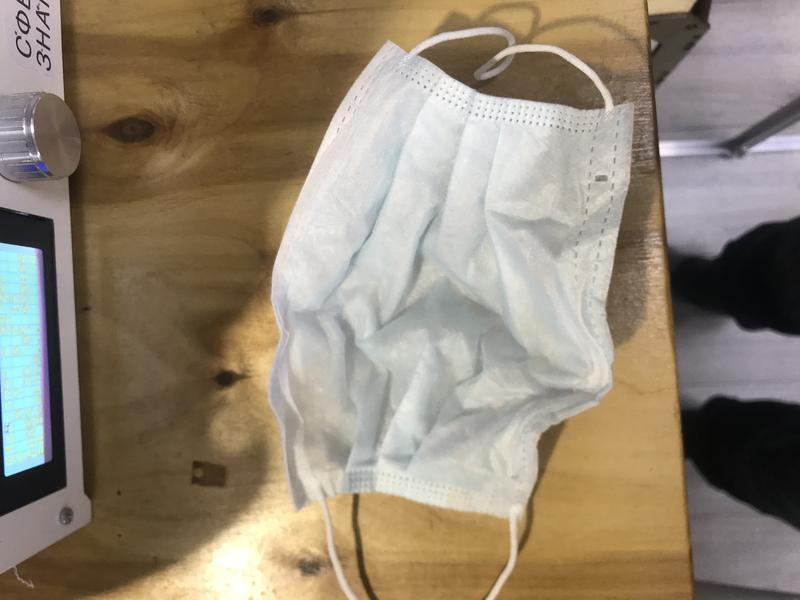medical_mask: (267, 26, 617, 600)
